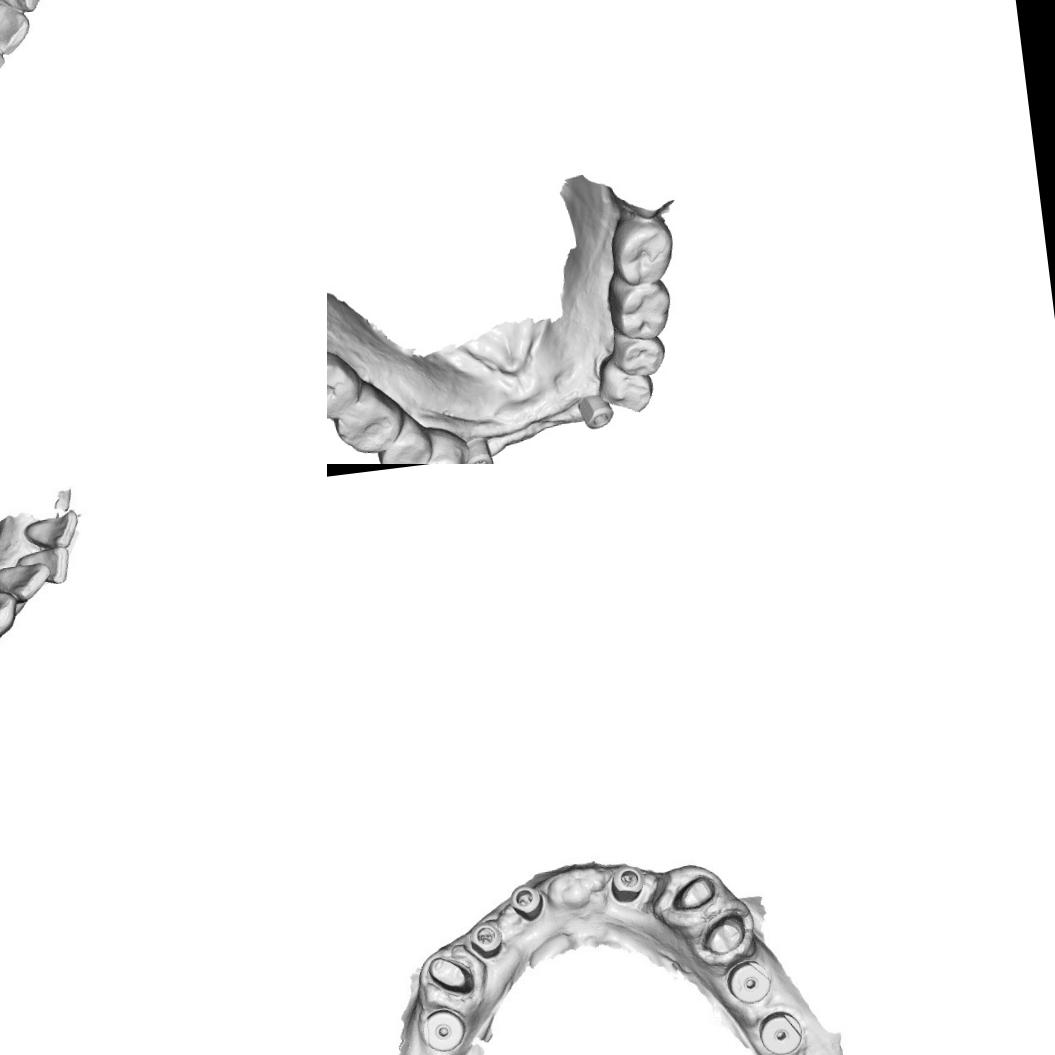canine: (0, 589, 19, 640)
crown: (426, 950, 476, 1000), (700, 912, 752, 958), (672, 872, 717, 914)
implant: (724, 956, 778, 1007), (755, 1006, 807, 1055), (417, 1005, 467, 1055), (464, 916, 507, 962), (608, 860, 647, 910), (505, 878, 546, 922), (575, 390, 616, 431), (462, 432, 495, 464)
incisor: (19, 507, 84, 557), (18, 544, 72, 590), (0, 557, 48, 606), (0, 0, 34, 61)
molar: (329, 378, 409, 458), (606, 210, 678, 288), (605, 268, 678, 344), (327, 340, 365, 425)
premolar: (594, 350, 656, 418), (609, 327, 668, 380), (374, 412, 434, 464), (408, 424, 470, 464)
